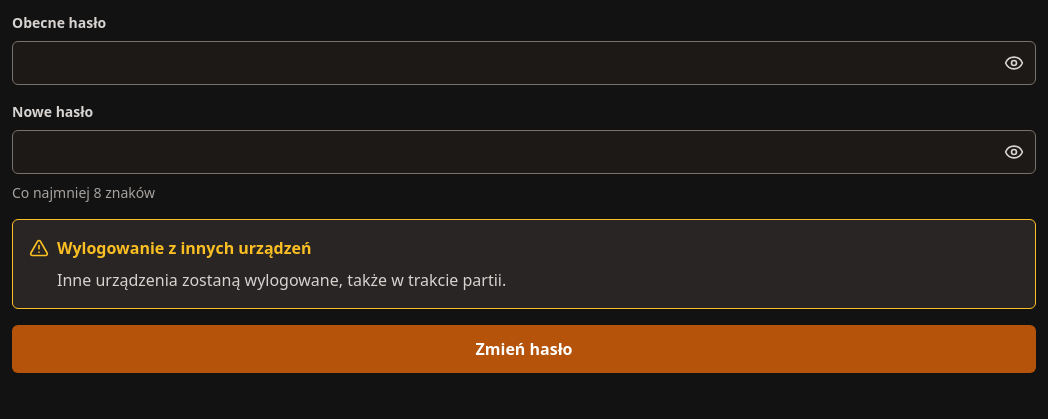
ChangePasswordForm › focuses the new password when the server blames only it
In the password field labelled "Obecne hasło": (524, 63) [12,41,1036,85], type "secret123"
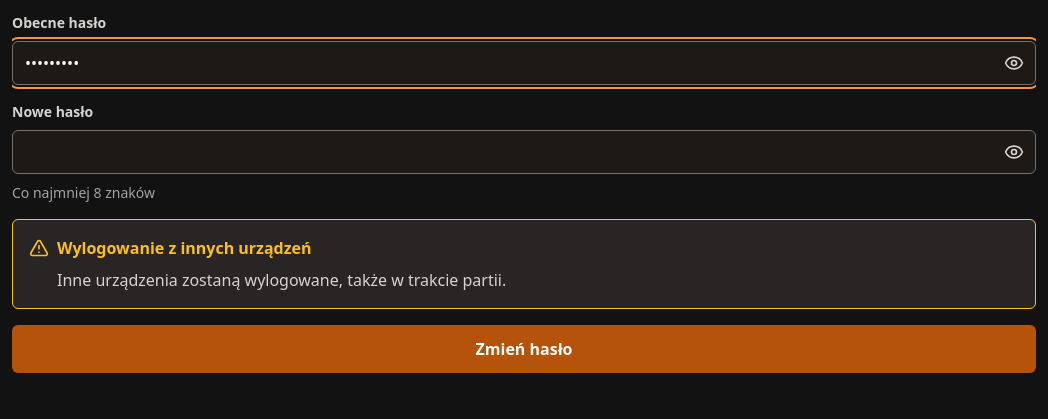
In the password field labelled "Nowe hasło": (524, 152) [12,130,1036,174], type "brand-new-pass1"
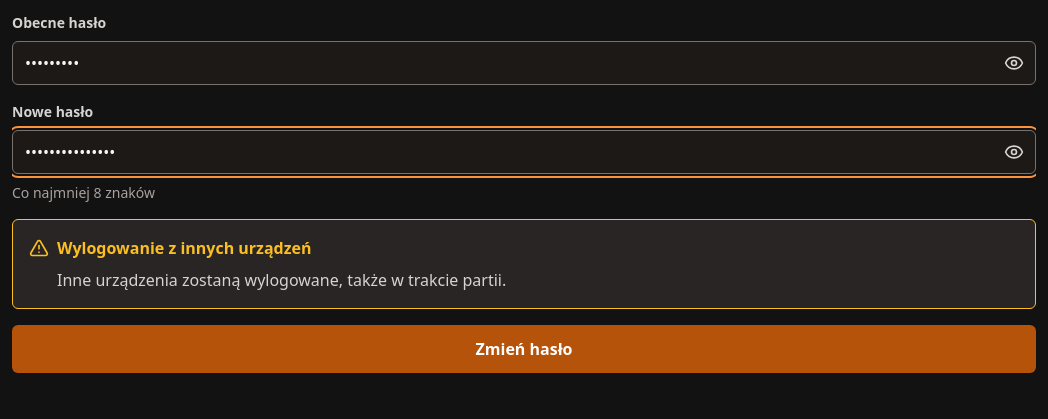
Click the button "Zmień hasło": (524, 349) [12,325,1036,373]
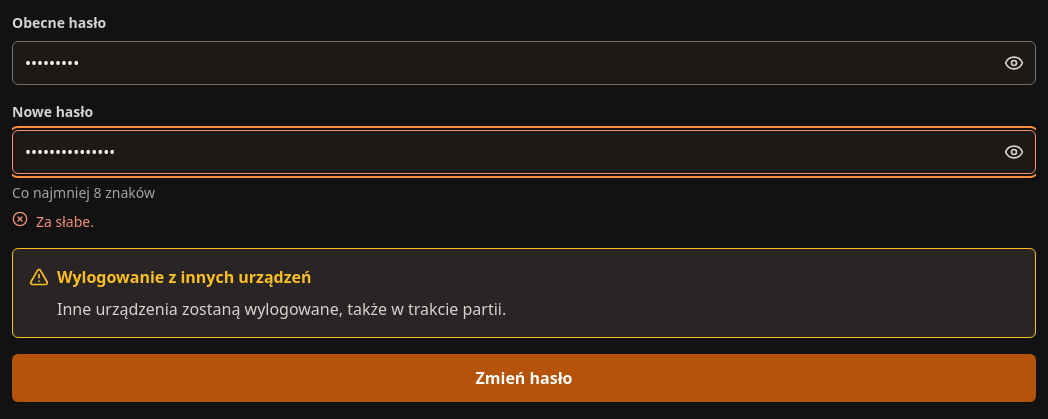
Check: the text "Za słabe." is shown, box [36,211,94,232]
